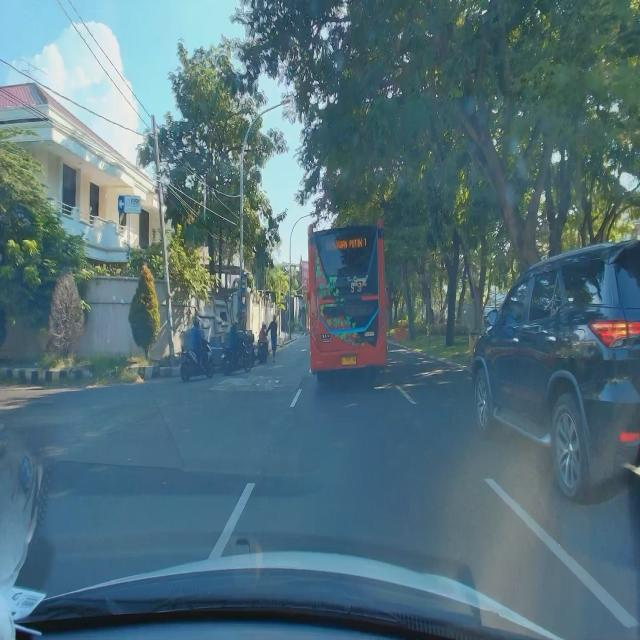bus: (306, 216, 390, 384)
car: (465, 237, 640, 504)
license-plate: (341, 356, 357, 366)
